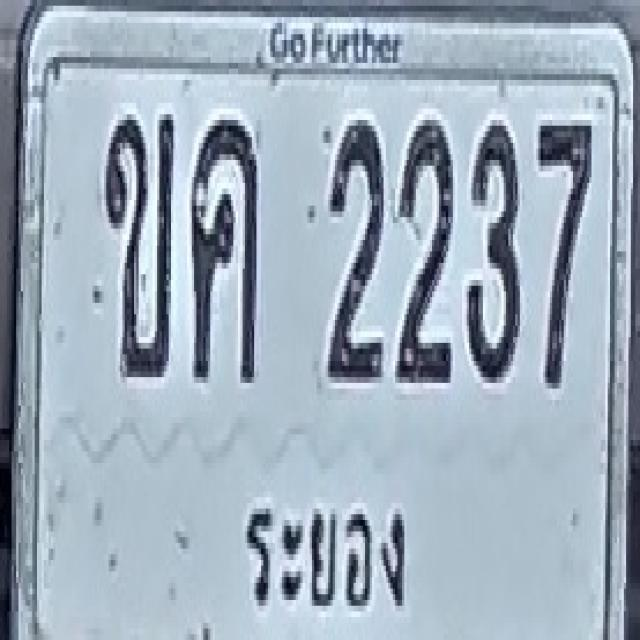-: (104, 109, 173, 377), (190, 111, 258, 380)
2: (395, 114, 453, 383), (326, 114, 384, 377)
3: (467, 120, 520, 377)
7: (538, 117, 590, 386)
RYG: (241, 475, 415, 622)
